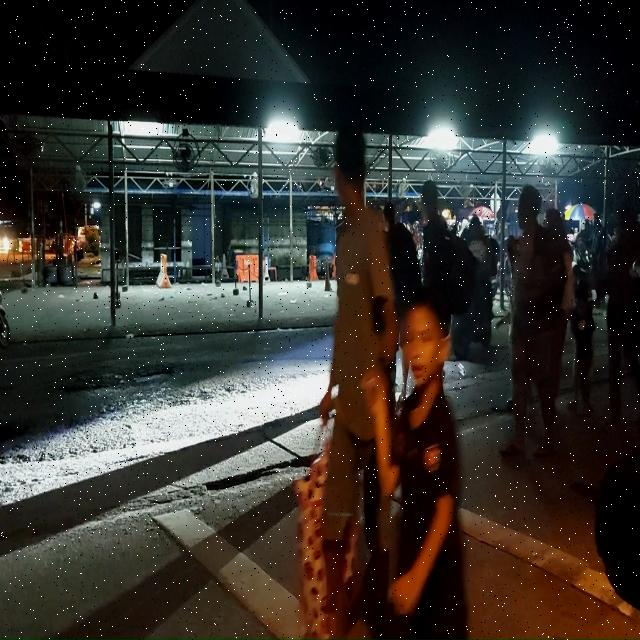Golongan II: (451, 274, 492, 360)
